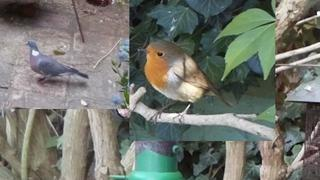robin: (137, 40, 235, 129)
wood pigeon: (24, 40, 89, 84)
